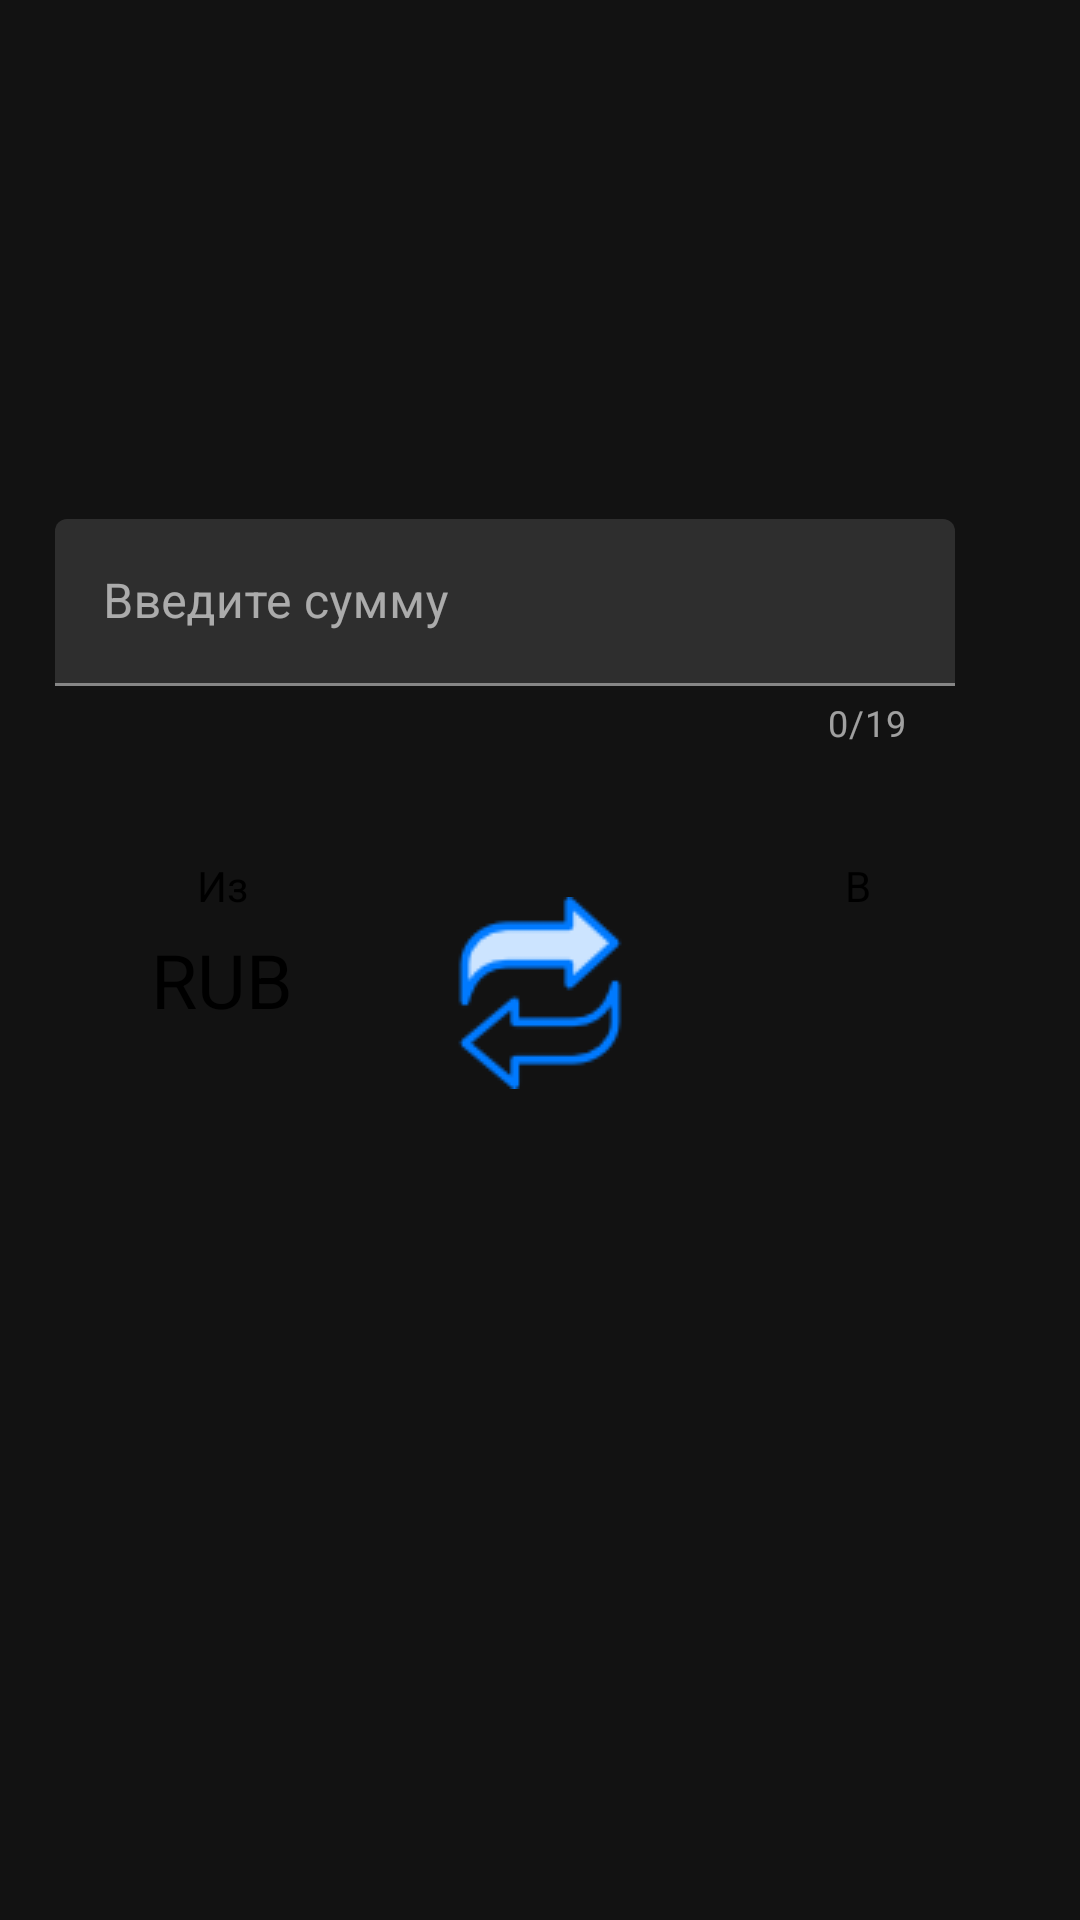

Icons on this 1080 × 1920 Android screen, each with the point to tap as (x=x, y=y):
transfer: (x=540, y=993)
